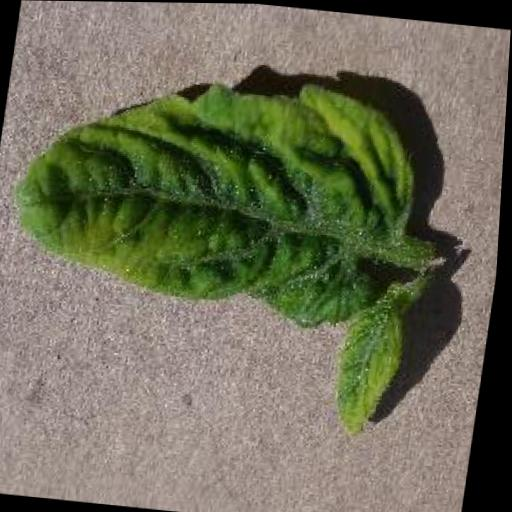Yellow Leaf Curl Virus: (0, 56, 432, 331), (332, 291, 415, 438)
